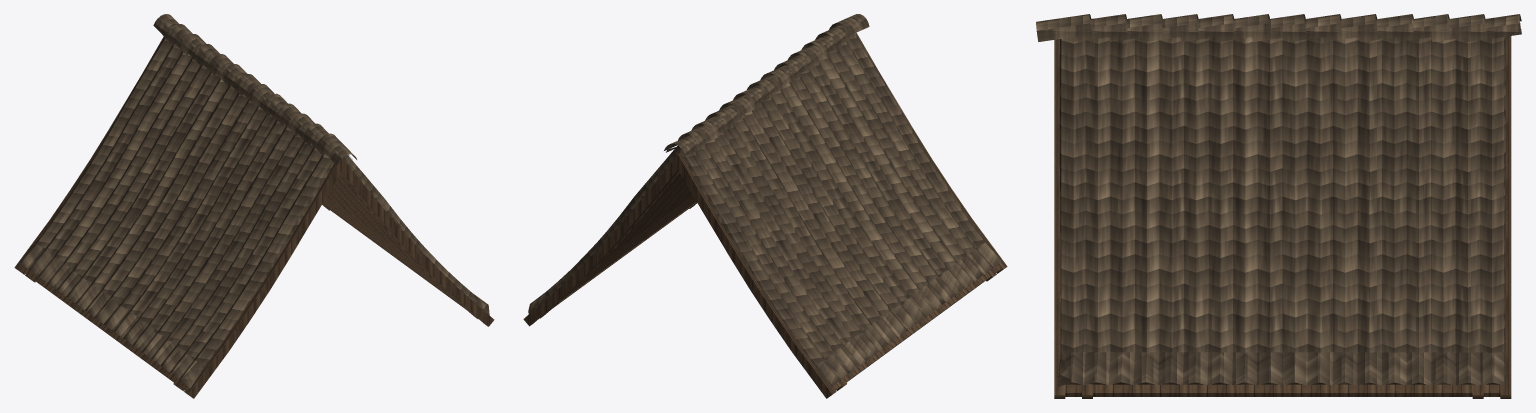
Rendered from Roof_Shingle_8x8.gltf.
3 views of the same model, side by side, from view 1: azimuth 30°, elevation 25°; view 2: azimuth 150°, elevation 25°; view 3: azimuth 270°, elevation 25° (orthographic). The views are drawn at different scales.
Parts seen in each view (by area): view 1: Roof_Shingle_8x8; view 2: Roof_Shingle_8x8; view 3: Roof_Shingle_8x8.
Boxes of the visible parts, x1,y1,x2,y2 form: Roof_Shingle_8x8: [14, 14, 494, 398]; Roof_Shingle_8x8: [523, 14, 1007, 398]; Roof_Shingle_8x8: [1036, 14, 1521, 398].
Bounding box in the file's own units: 9.95 × 6.78 × 10.33.
Materials: 2 (2 with a texture image).
